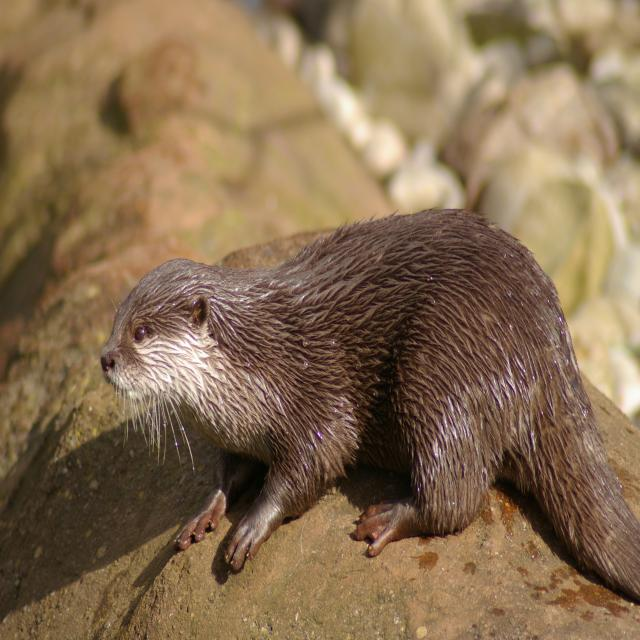otter: (99, 208, 640, 603)
